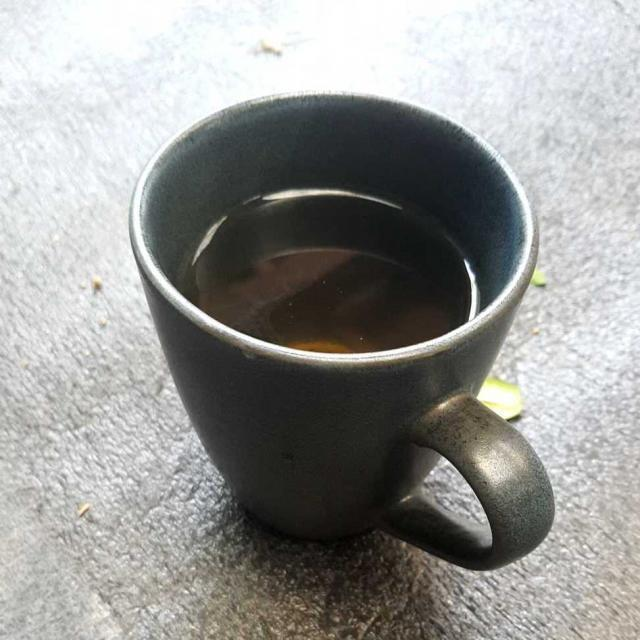tea: (192, 189, 476, 352)
